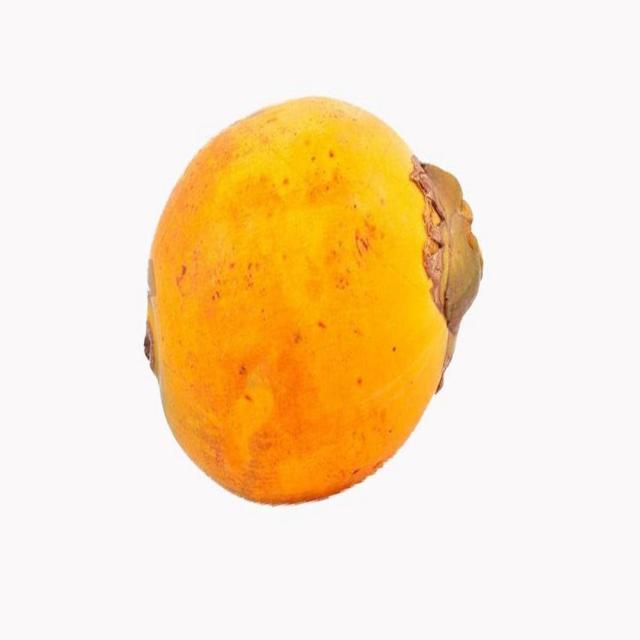good: (143, 96, 482, 508)
